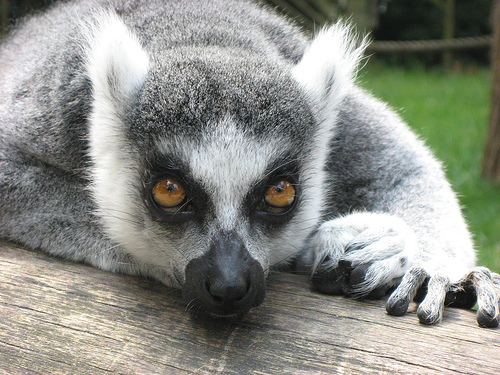cat: (0, 0, 499, 331)
